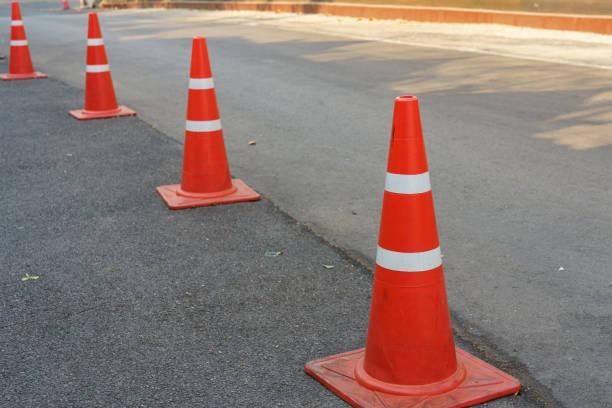traffic cone: (303, 93, 521, 408), (155, 35, 262, 210), (68, 11, 137, 120), (0, 0, 48, 80), (62, 0, 70, 10)
